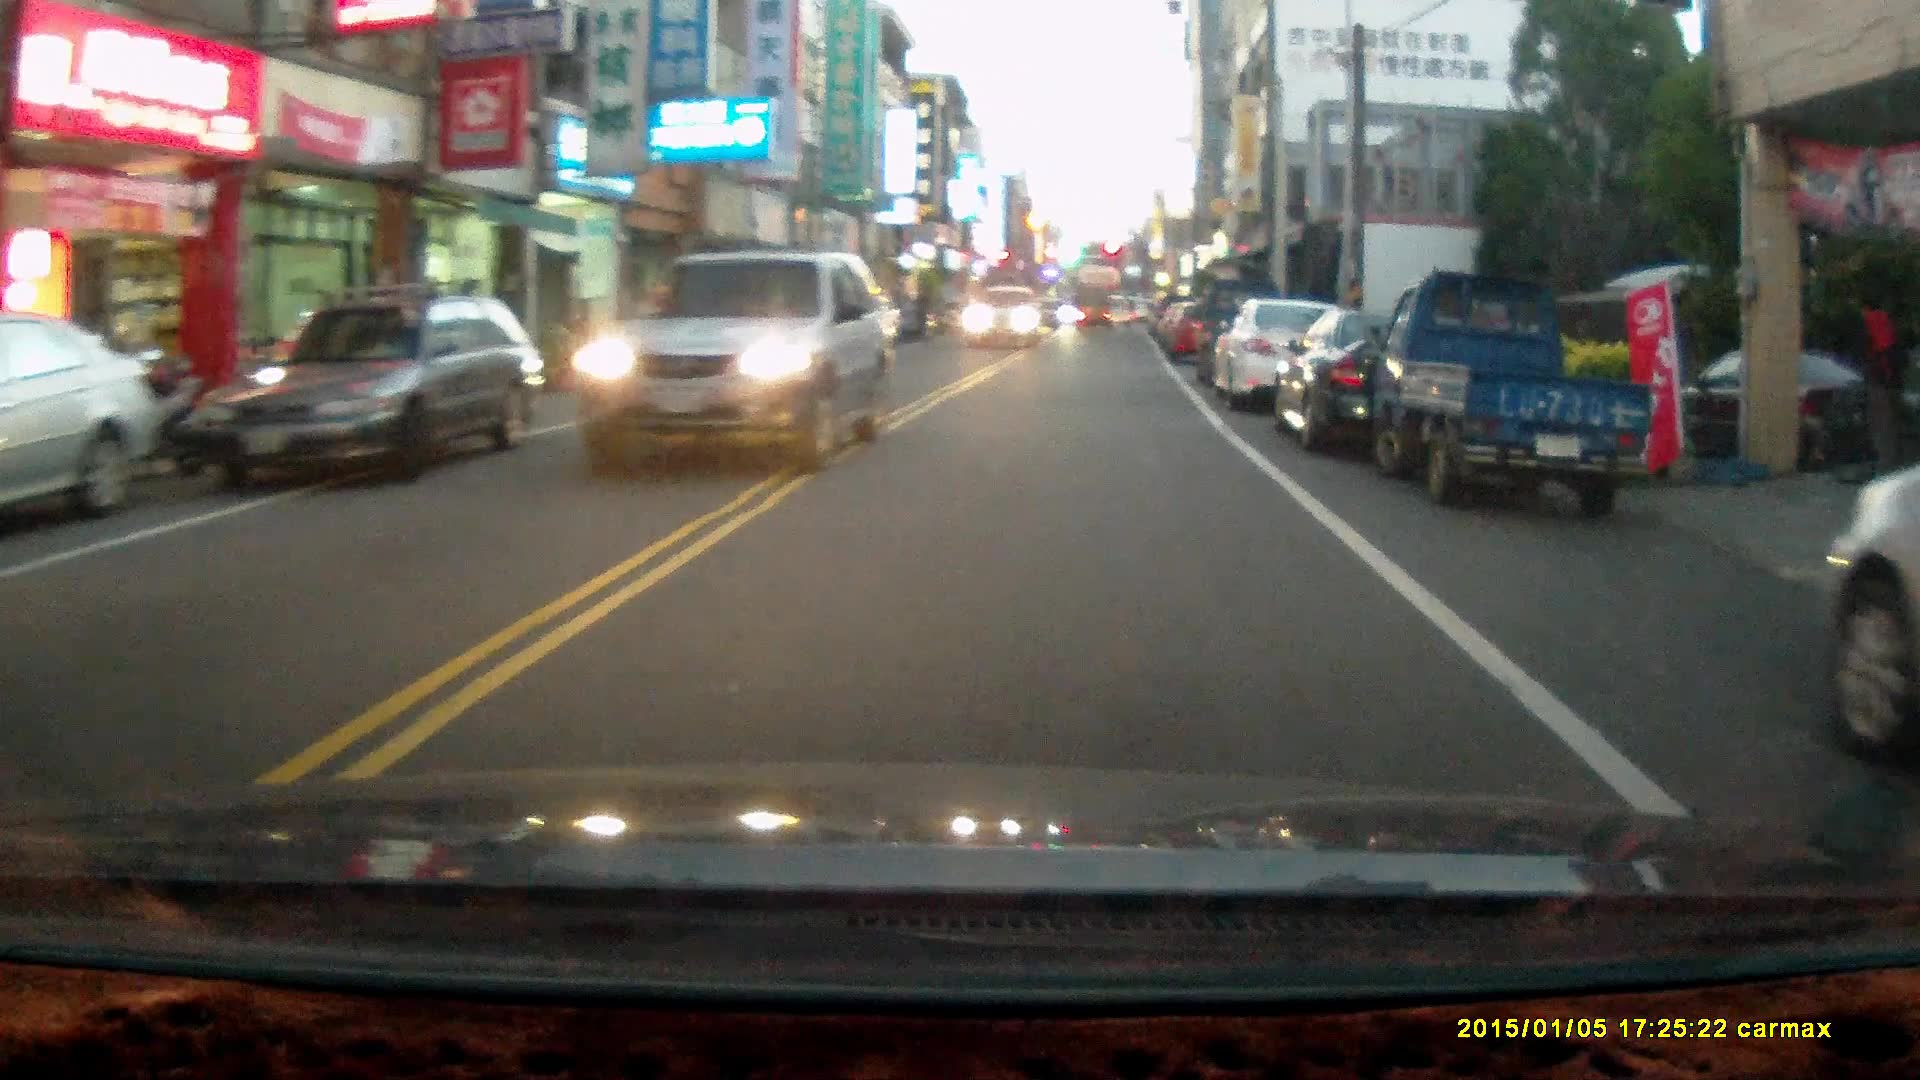pedestrian: (1848, 294, 1907, 491)
vehicle: (177, 284, 553, 489), (1368, 270, 1671, 523), (576, 244, 903, 470), (1281, 309, 1517, 450), (1815, 467, 1920, 772), (1208, 300, 1368, 411), (963, 286, 1045, 351), (1071, 281, 1115, 332)
